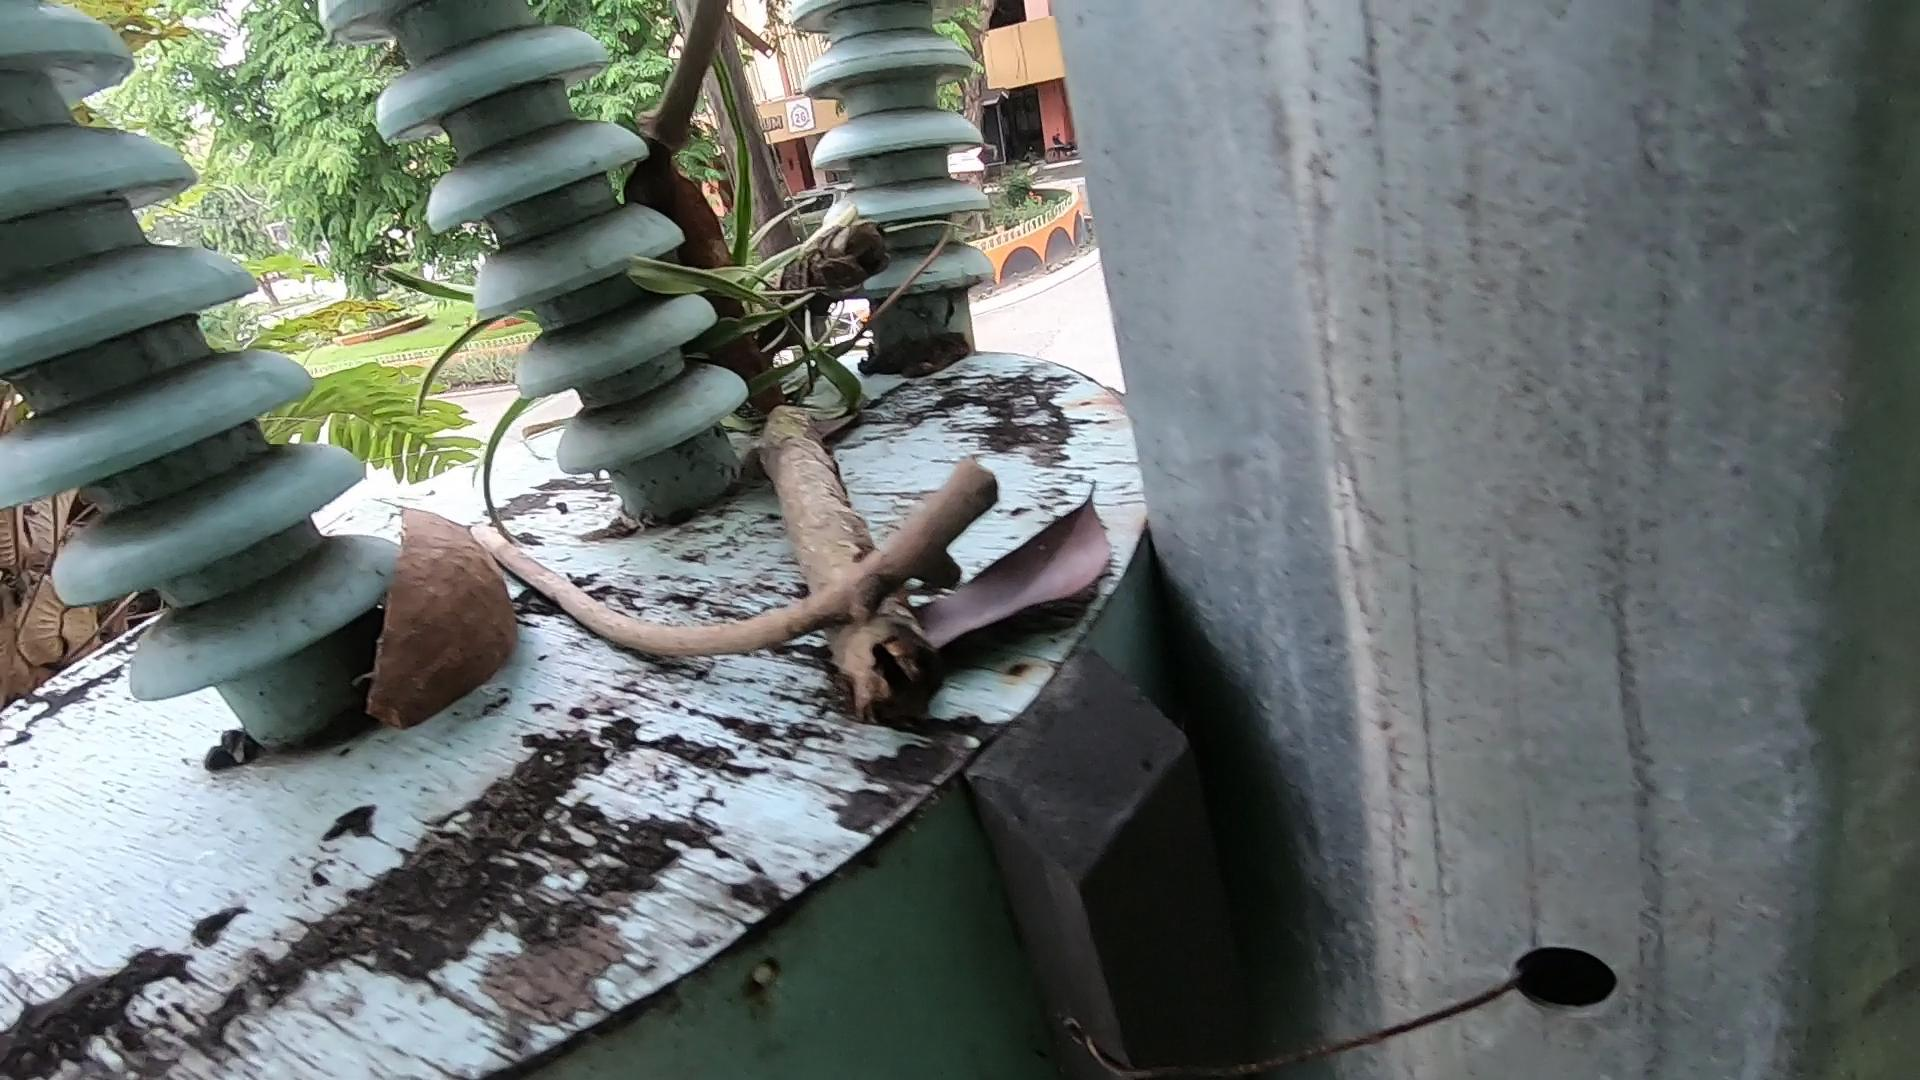branch with leaves: (541, 88, 913, 836)
leaf: (783, 521, 1145, 678)
mahogany fruit: (338, 473, 549, 862), (622, 140, 812, 473)
tree branch: (396, 473, 1029, 617), (570, 15, 893, 193)
